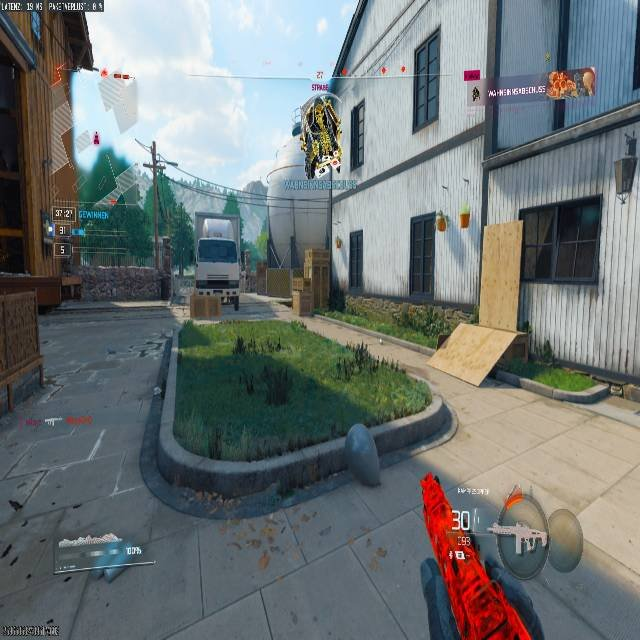head: (310, 77, 327, 97)
player: (293, 79, 342, 181)
